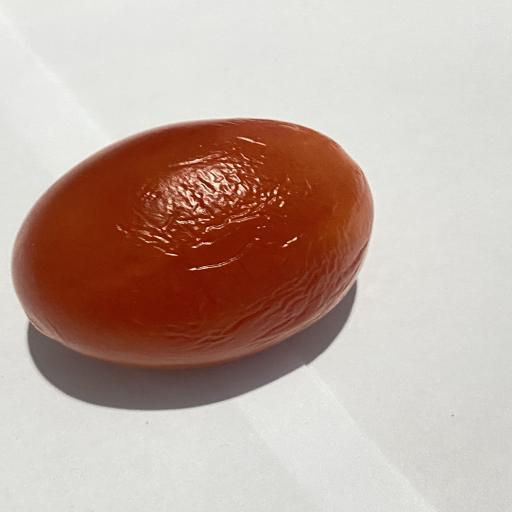spoiled: (13, 119, 372, 368)
